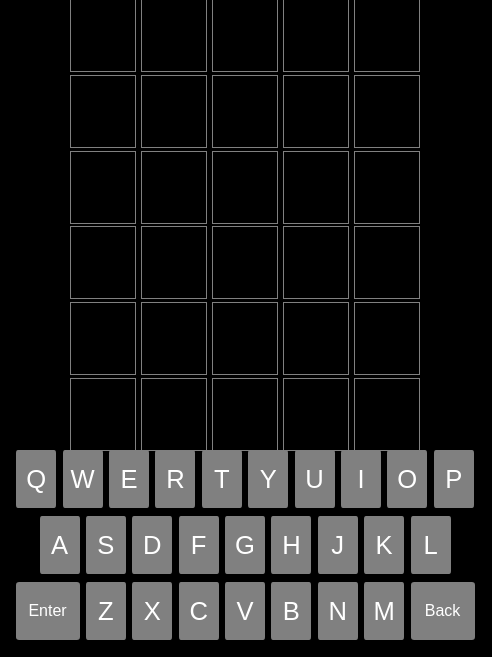
Test: App › Guesses › On-screen keyboard input › clicking a letter key adds it to the current guess
Click the button with test id "key-A".
click(60, 545)  # box [40,516,80,574]
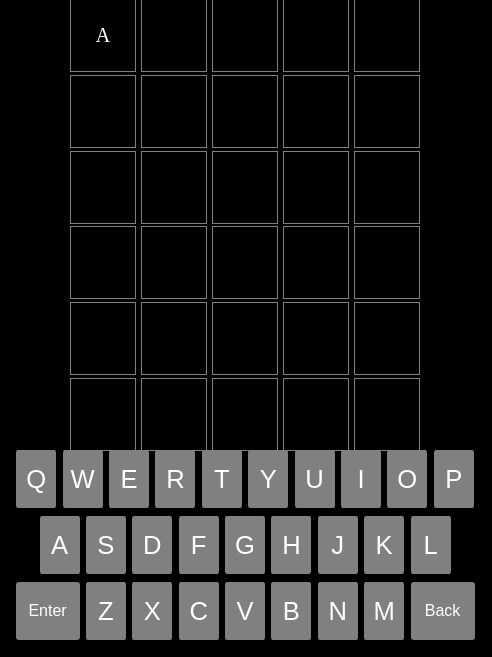
Click the button with test id "key-P".
click(454, 479)  # box [434,450,474,508]
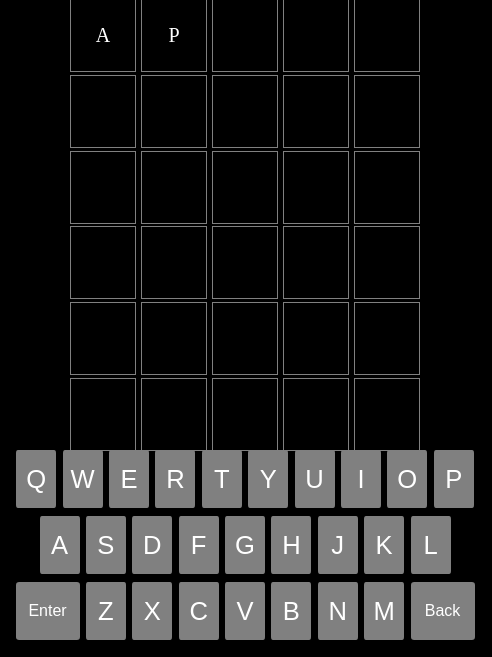
Result: the element with test id "board-row-0" reads "A P" at [70,0,420,71]
